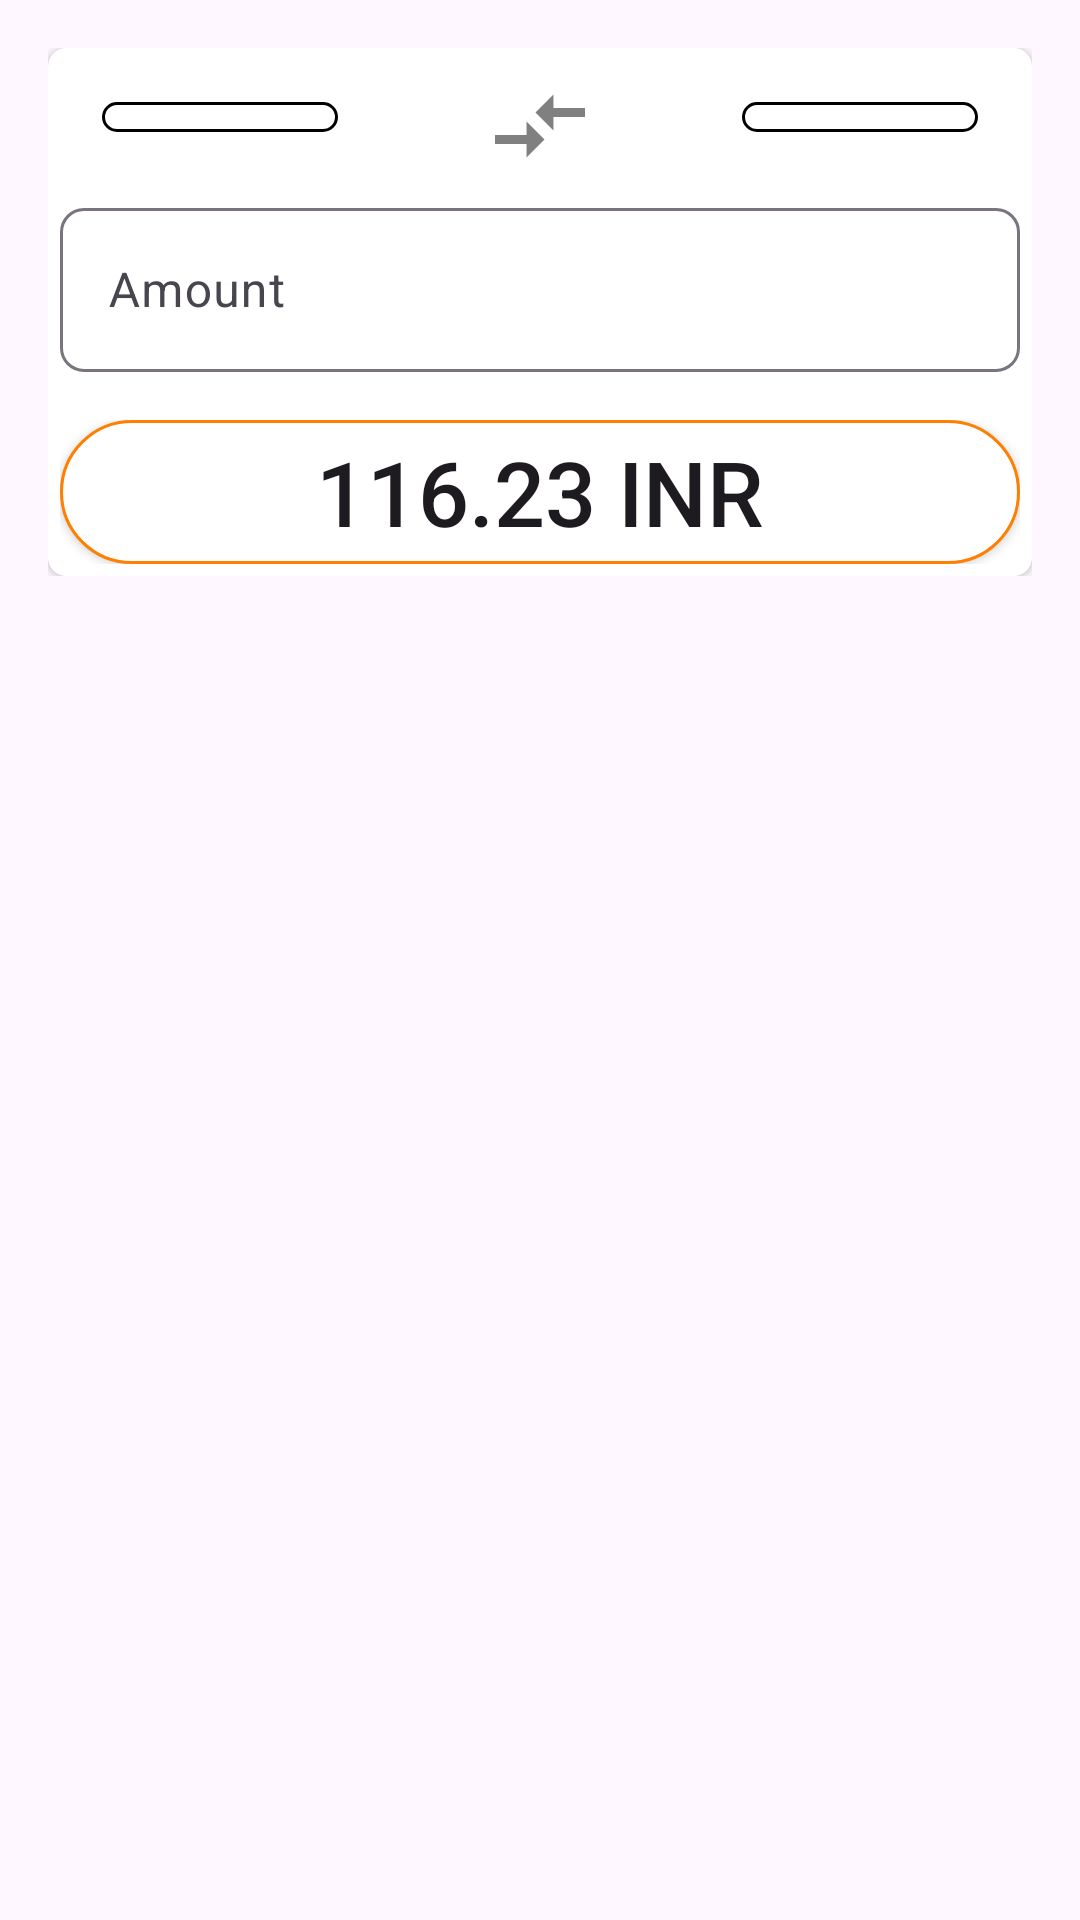

Named icons in this screenshot (1080px x 1920px) and their bounding boxes, (x1, y1, x2, y2):
compare arrows: (495, 95, 585, 157)
